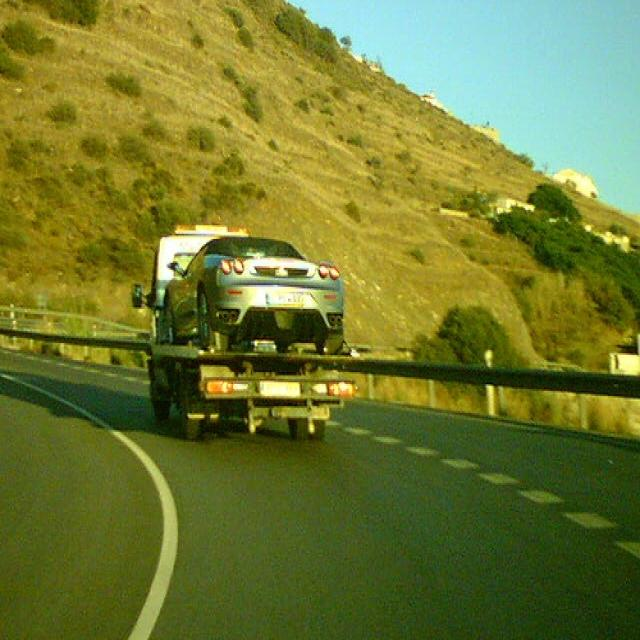car: (155, 228, 353, 352)
